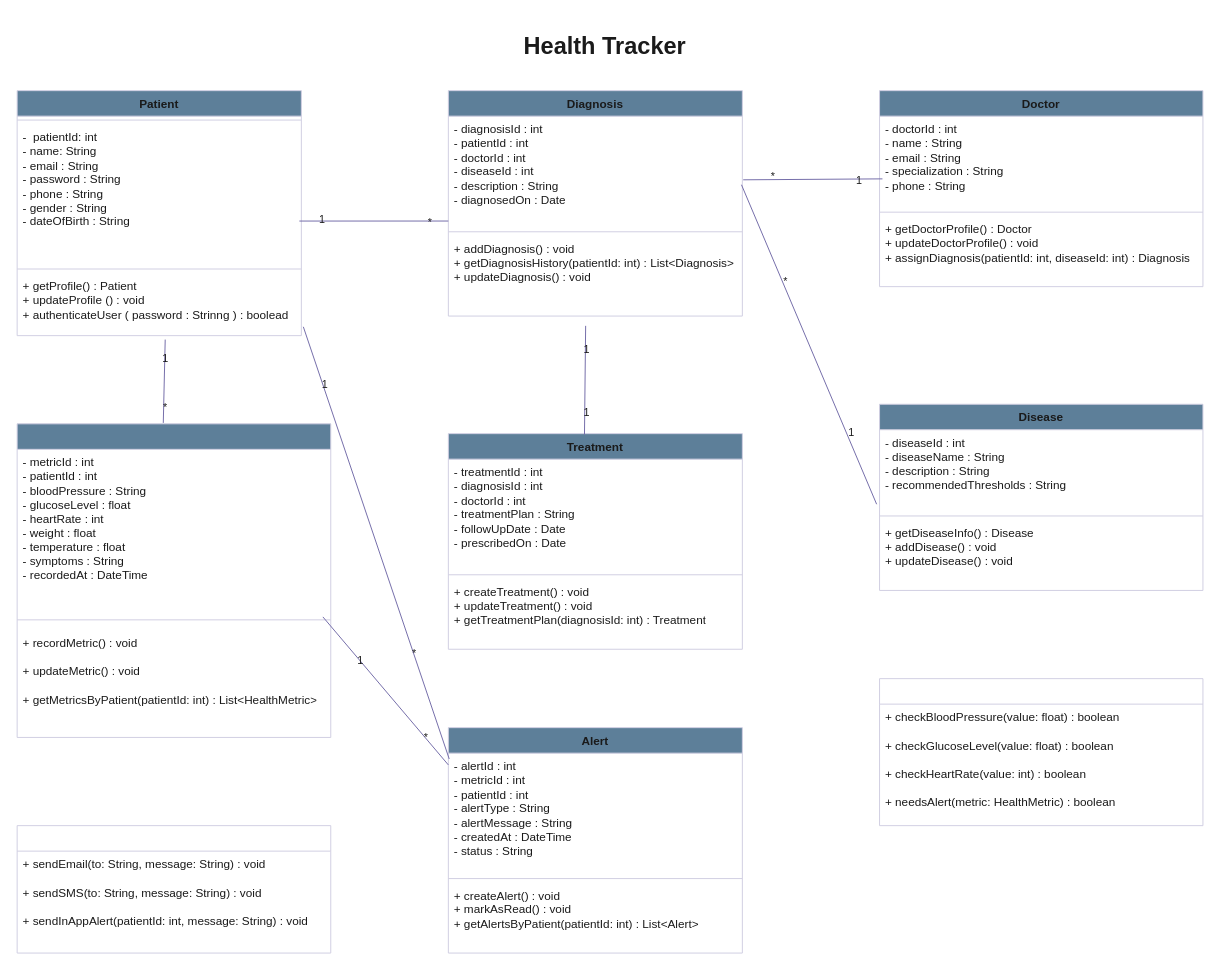
This 1220x973 diagram has some shape labels left out. Each missing label, with the box of its shape:
HealthMetrics: (16, 423, 331, 737)
NotificationService: (16, 825, 331, 953)
ThresholdEvaluator: (879, 678, 1203, 826)
